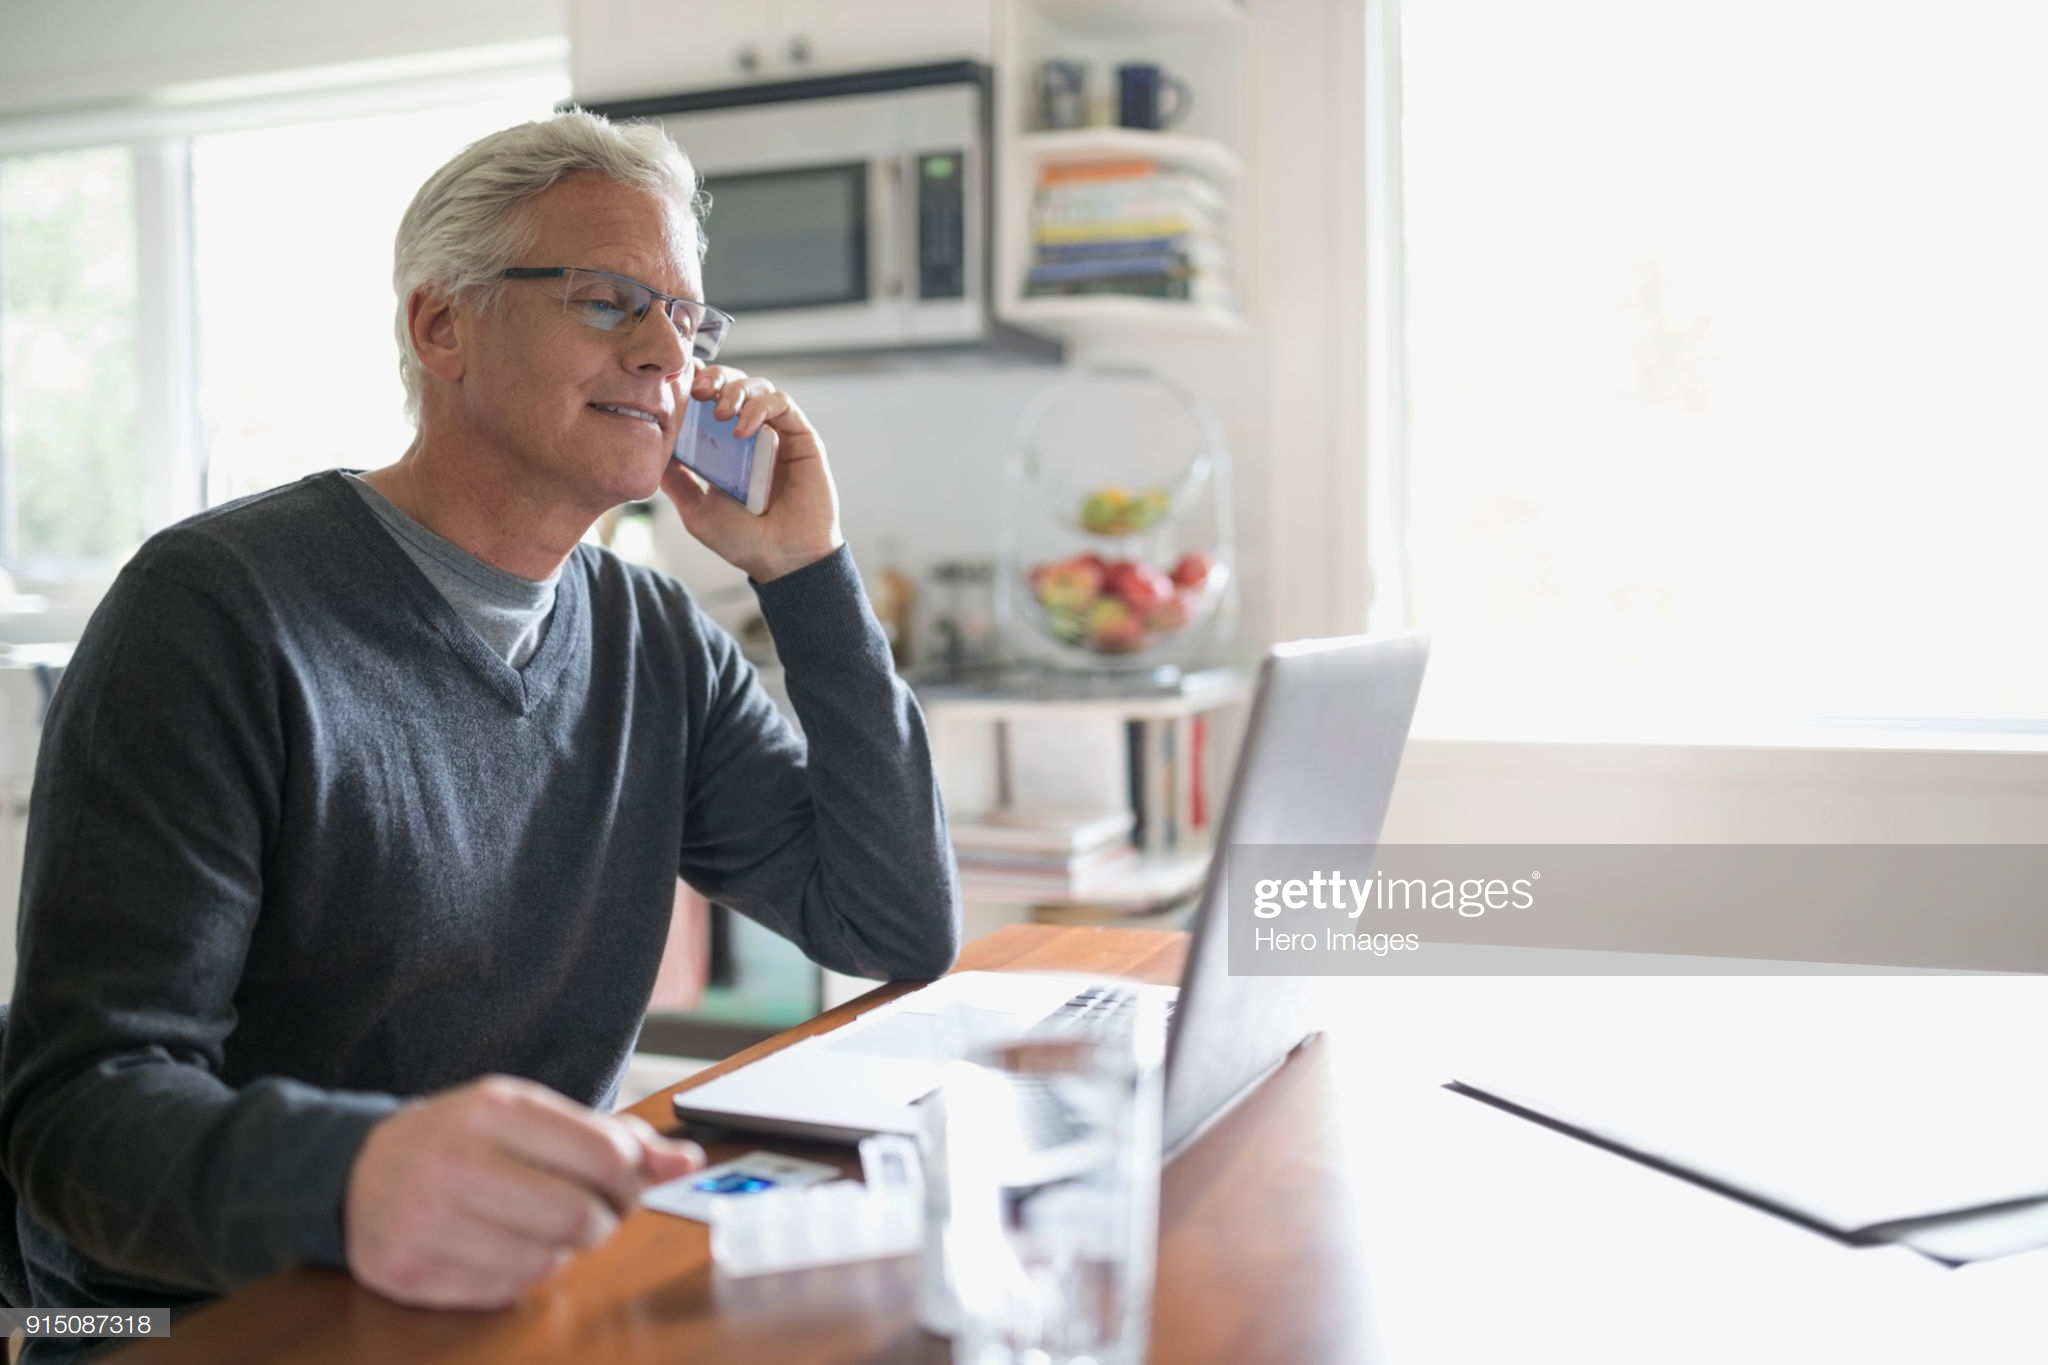phone: (655, 340, 796, 529)
talk: (525, 235, 866, 597)
